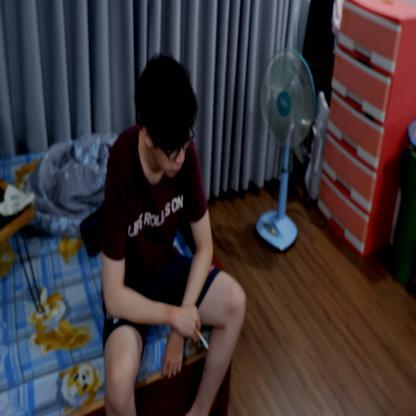cigarette: (196, 328, 209, 350)
person: (96, 49, 245, 415)
